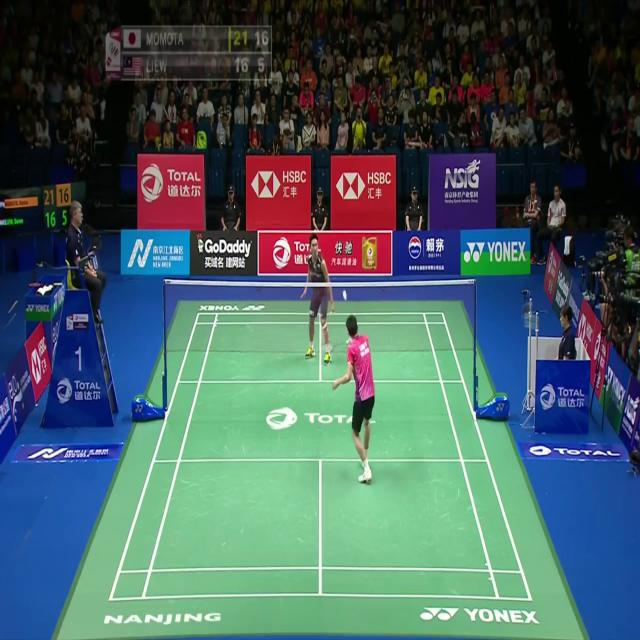Shuttlecock: (341, 288, 347, 300)
